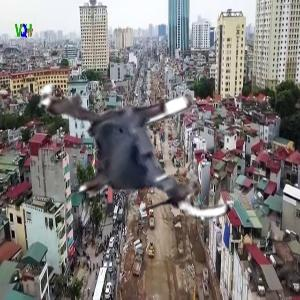drone: (24, 42, 243, 261)
